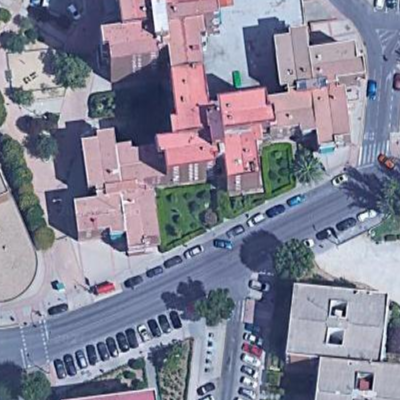tree: (272, 237, 320, 286), (194, 284, 241, 328), (53, 51, 94, 92), (13, 362, 57, 400), (32, 132, 62, 164), (4, 26, 34, 57), (30, 227, 61, 256), (7, 85, 41, 111), (8, 167, 38, 189), (22, 205, 50, 228), (2, 135, 25, 163), (4, 156, 33, 177), (17, 192, 44, 214), (25, 216, 52, 233), (12, 180, 37, 197)
